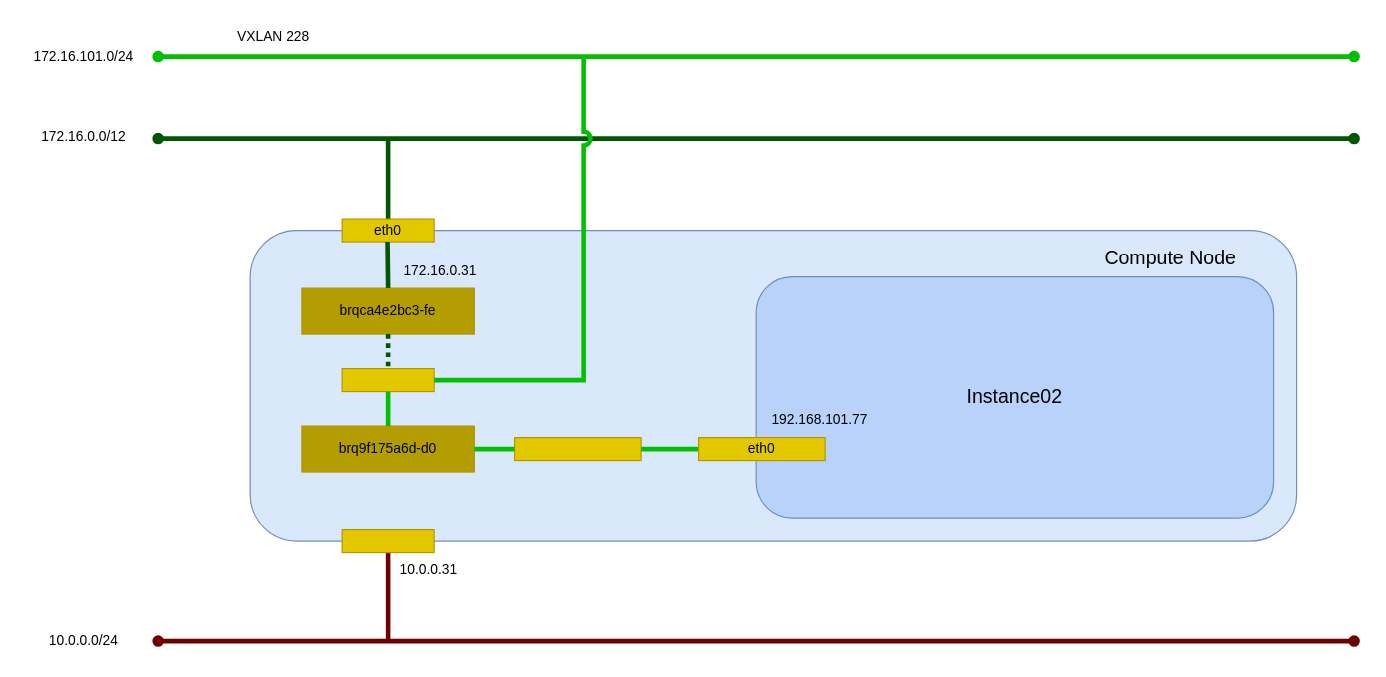
The diagram is 1386 pixels wide and 677 high, and some of its shapes have lost their labels. The shapes that lost their labels are listed below. From the top down, each one's centre as x and y in pixels, then its label:
At point (387, 379): "vxlan-288".
At point (577, 448): "tap9a964f1b-6a".
At point (387, 540): "eth1".
